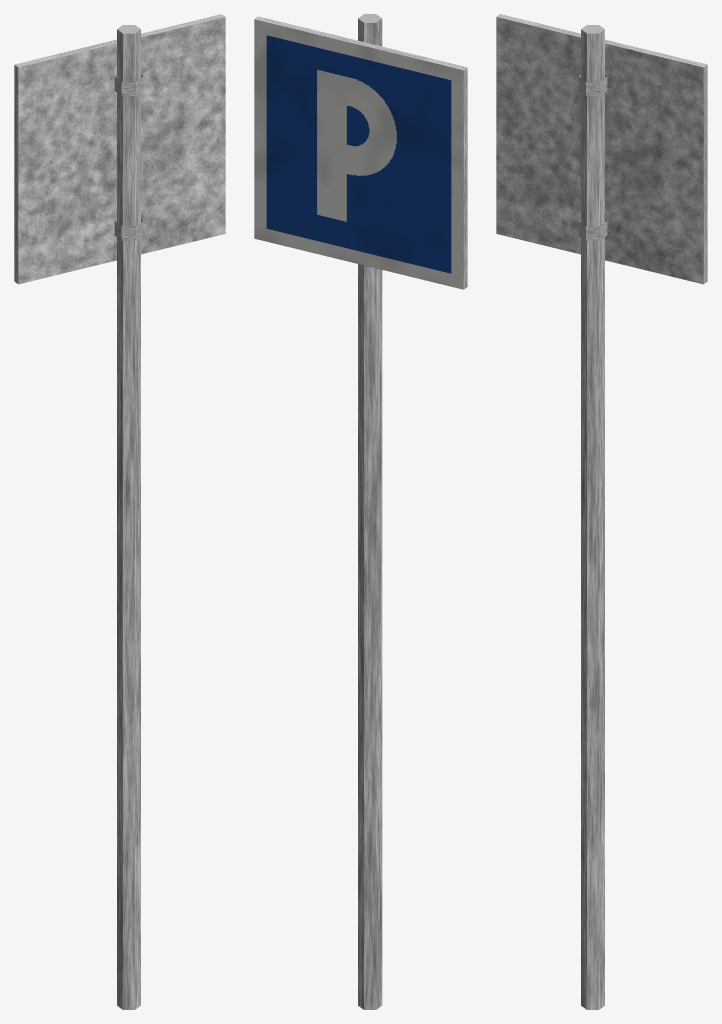
Rendered from SM_Morin_CartelloP_LOD1.fbx.
The picture shows the model from 3 angles, left to right: view 1: azimuth 30°, elevation 25°; view 2: azimuth 150°, elevation 25°; view 3: azimuth 330°, elevation 25°; orthographic projection.
Visible parts, largest first — view 1: SM_Morin_CartelloP_LOD1; view 2: SM_Morin_CartelloP_LOD1; view 3: SM_Morin_CartelloP_LOD1.
Part boxes in pixels (<box>): SM_Morin_CartelloP_LOD1: <box>14,14,225,1009</box>; SM_Morin_CartelloP_LOD1: <box>254,14,467,1009</box>; SM_Morin_CartelloP_LOD1: <box>496,14,707,1009</box>.
Size of the model in its own units: 60 by 9.1 by 270.
Materials: 1 (1 with a texture image).
